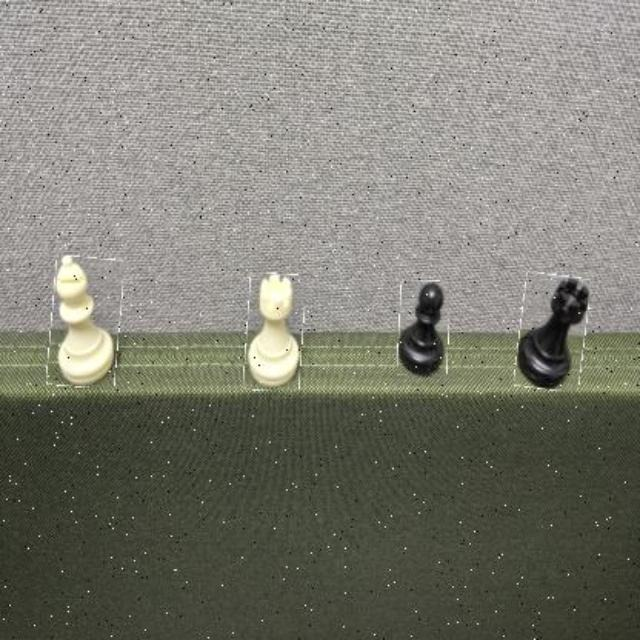black-pawn: (399, 281, 451, 377)
black-rook: (516, 274, 588, 390)
white-bishop: (50, 257, 122, 389)
white-rook: (246, 273, 304, 391)
